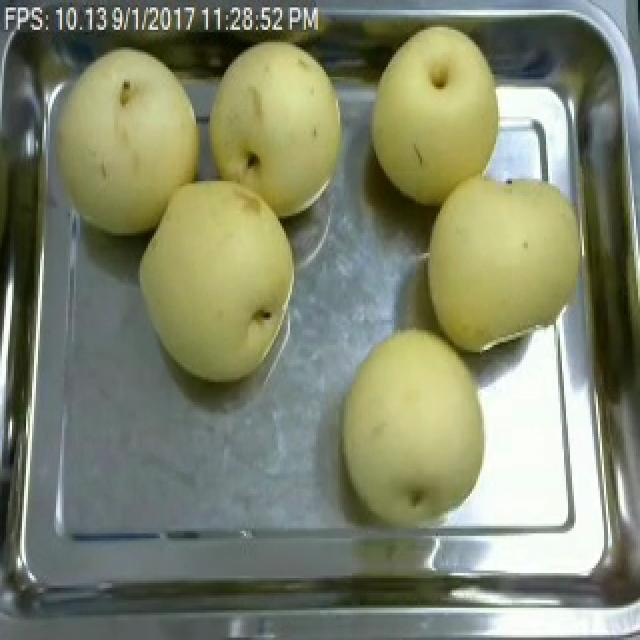Fruit: (410, 156, 602, 362), (32, 32, 216, 246), (130, 168, 306, 390), (326, 317, 500, 531), (198, 22, 358, 226), (356, 12, 514, 218)
